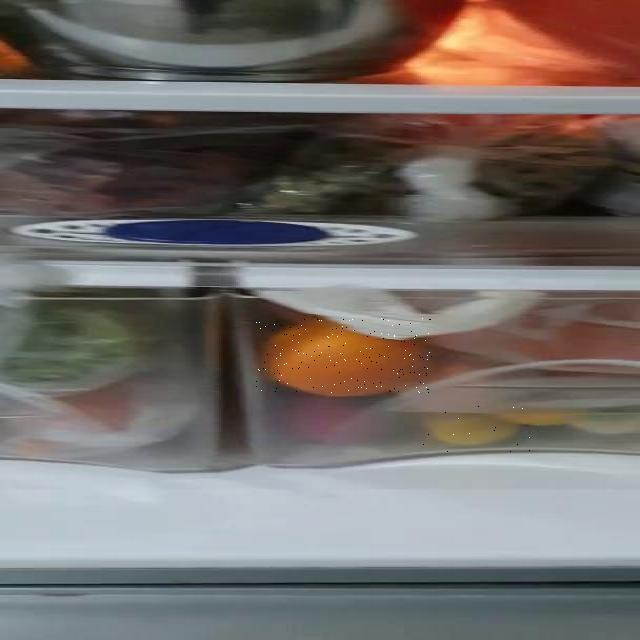lemon: (423, 398, 531, 453)
orange: (256, 318, 432, 393)
